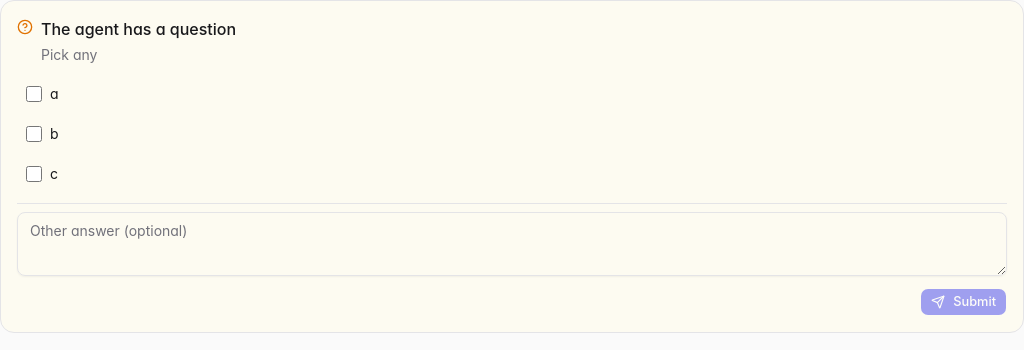
Test: AgentQuestionPrompt picker variants › disables_Send_until_selection_or_other_text: toggles enable/disable state correctly
Check: the button with test id "agent-question-send" is disabled, box [920, 288, 1007, 316]
// Check a box → enabled.
Click the checkbox with test id "agent-question-option-1".
click(34, 134)  # box [26, 126, 42, 142]
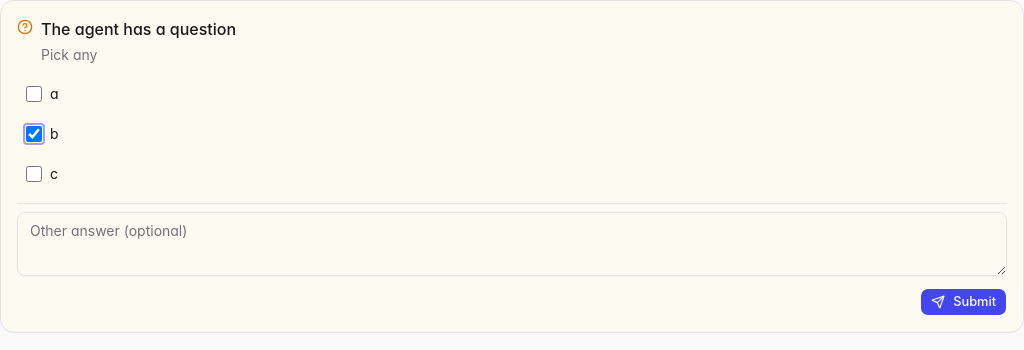
Check: the button with test id "agent-question-send" is enabled, box [920, 288, 1007, 316]
// Uncheck the same box → disabled again.
Click the checkbox with test id "agent-question-option-1".
click(34, 134)  # box [26, 126, 42, 142]
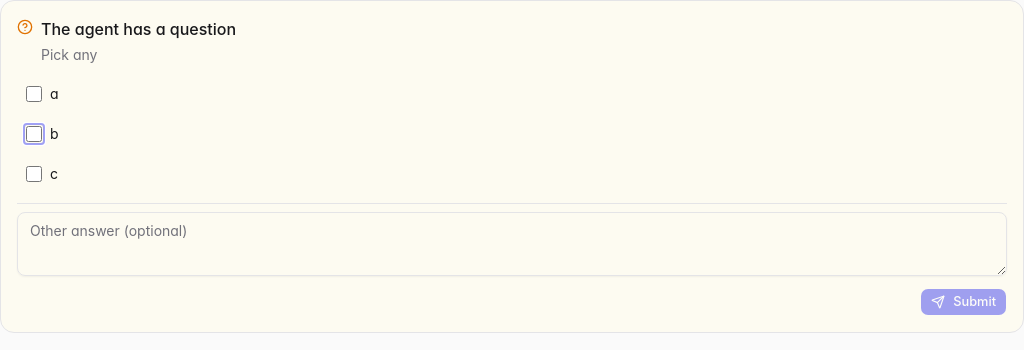
Check: the button with test id "agent-question-send" is disabled, box [920, 288, 1007, 316]
// Type into Other → enabled (Other escape hatch overrides empty selection).
Type "x" into the text box with test id "agent-question-textarea".
click(512, 244); type("x")  # box [17, 212, 1007, 276]
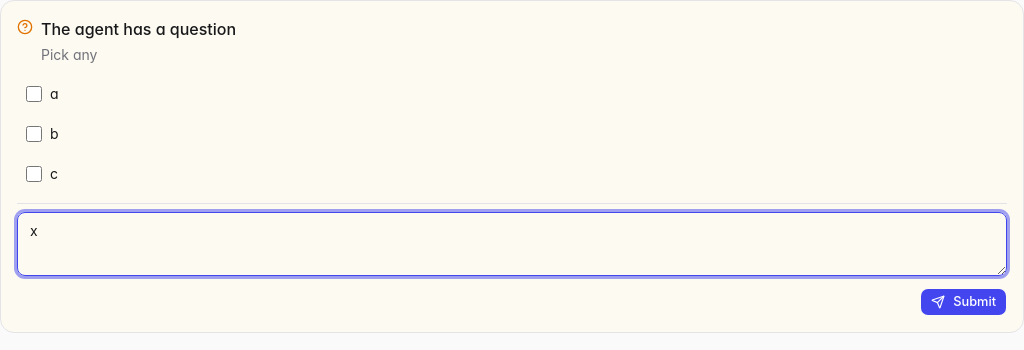
Check: the button with test id "agent-question-send" is enabled, box [920, 288, 1007, 316]
